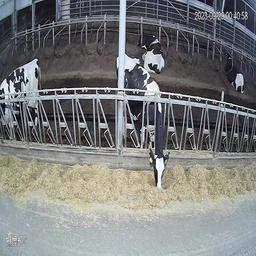cow: (115, 52, 168, 189), (0, 58, 44, 133), (138, 31, 165, 74), (224, 54, 245, 95)
